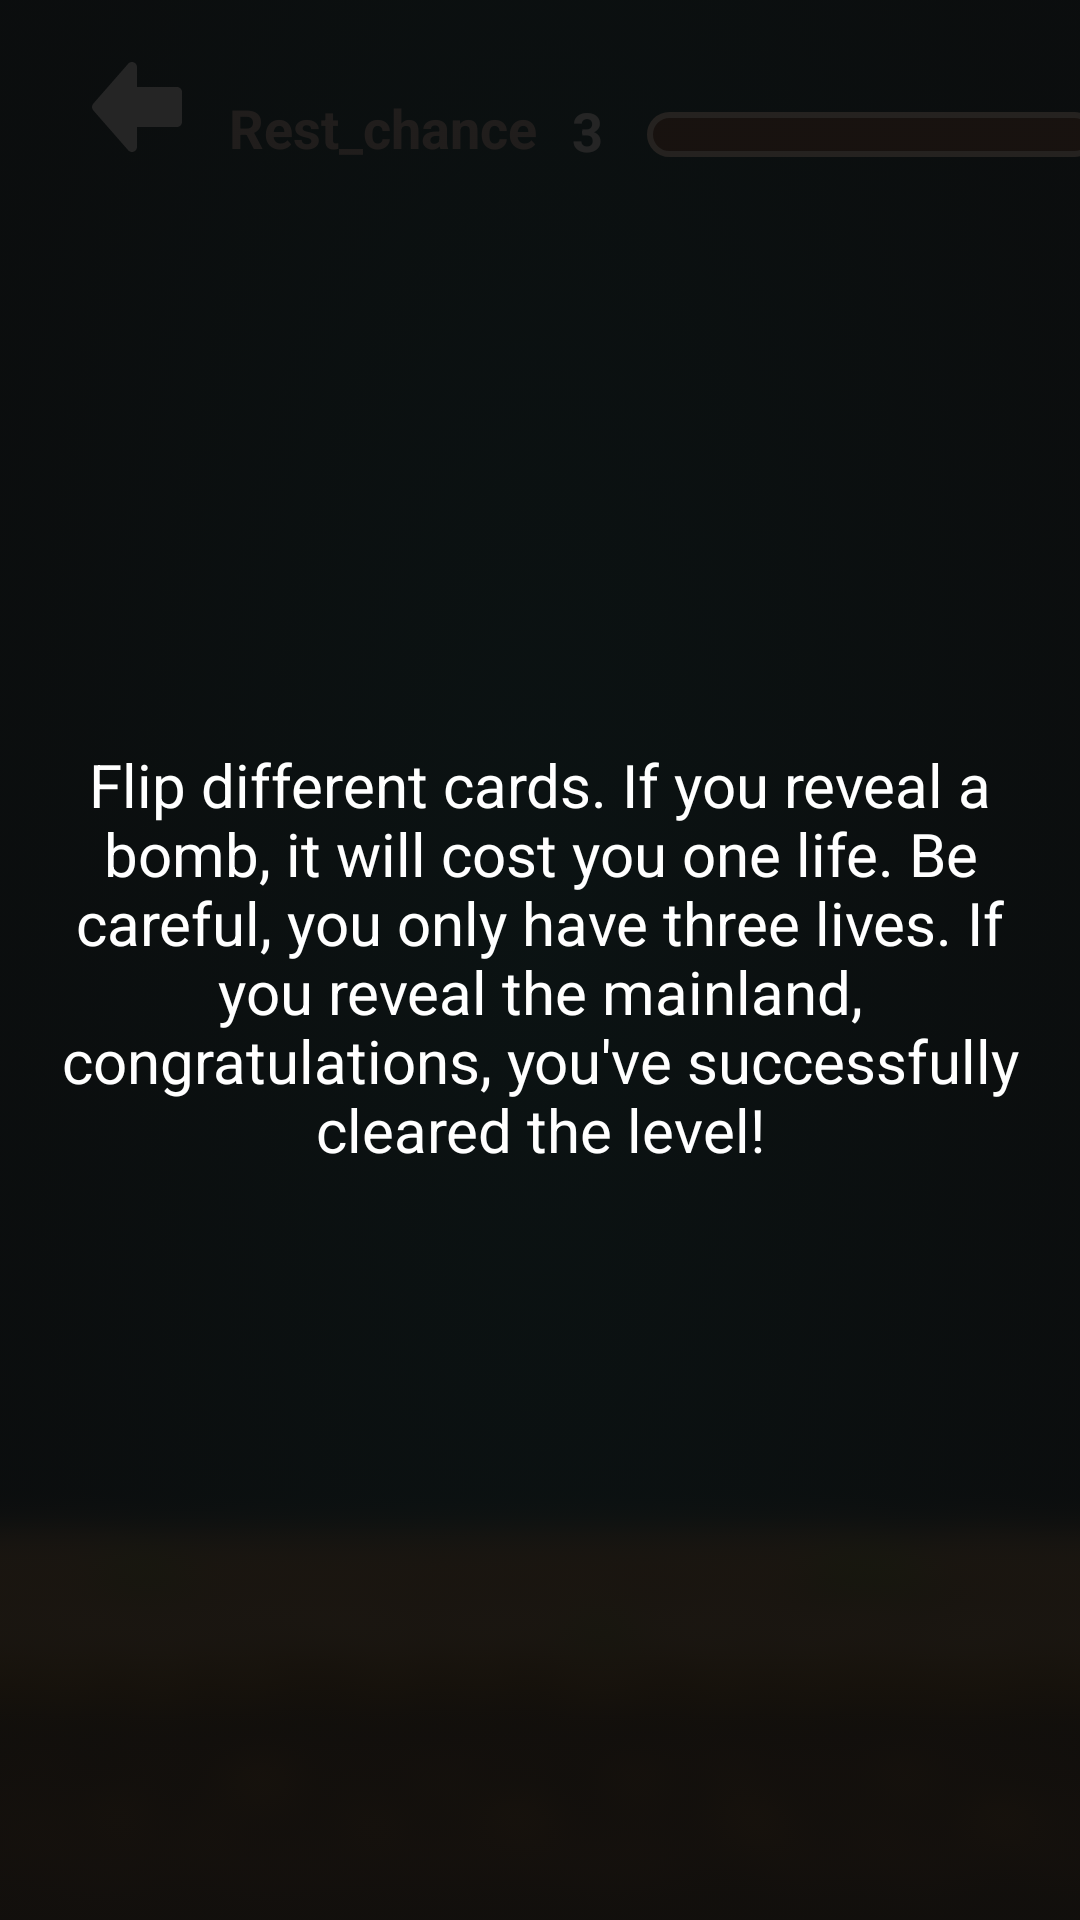

Icon bounding boxes for this 1080×1920 phone screenshot, format [x1,y1,x2,y2]:
back: [92,62,182,152]
